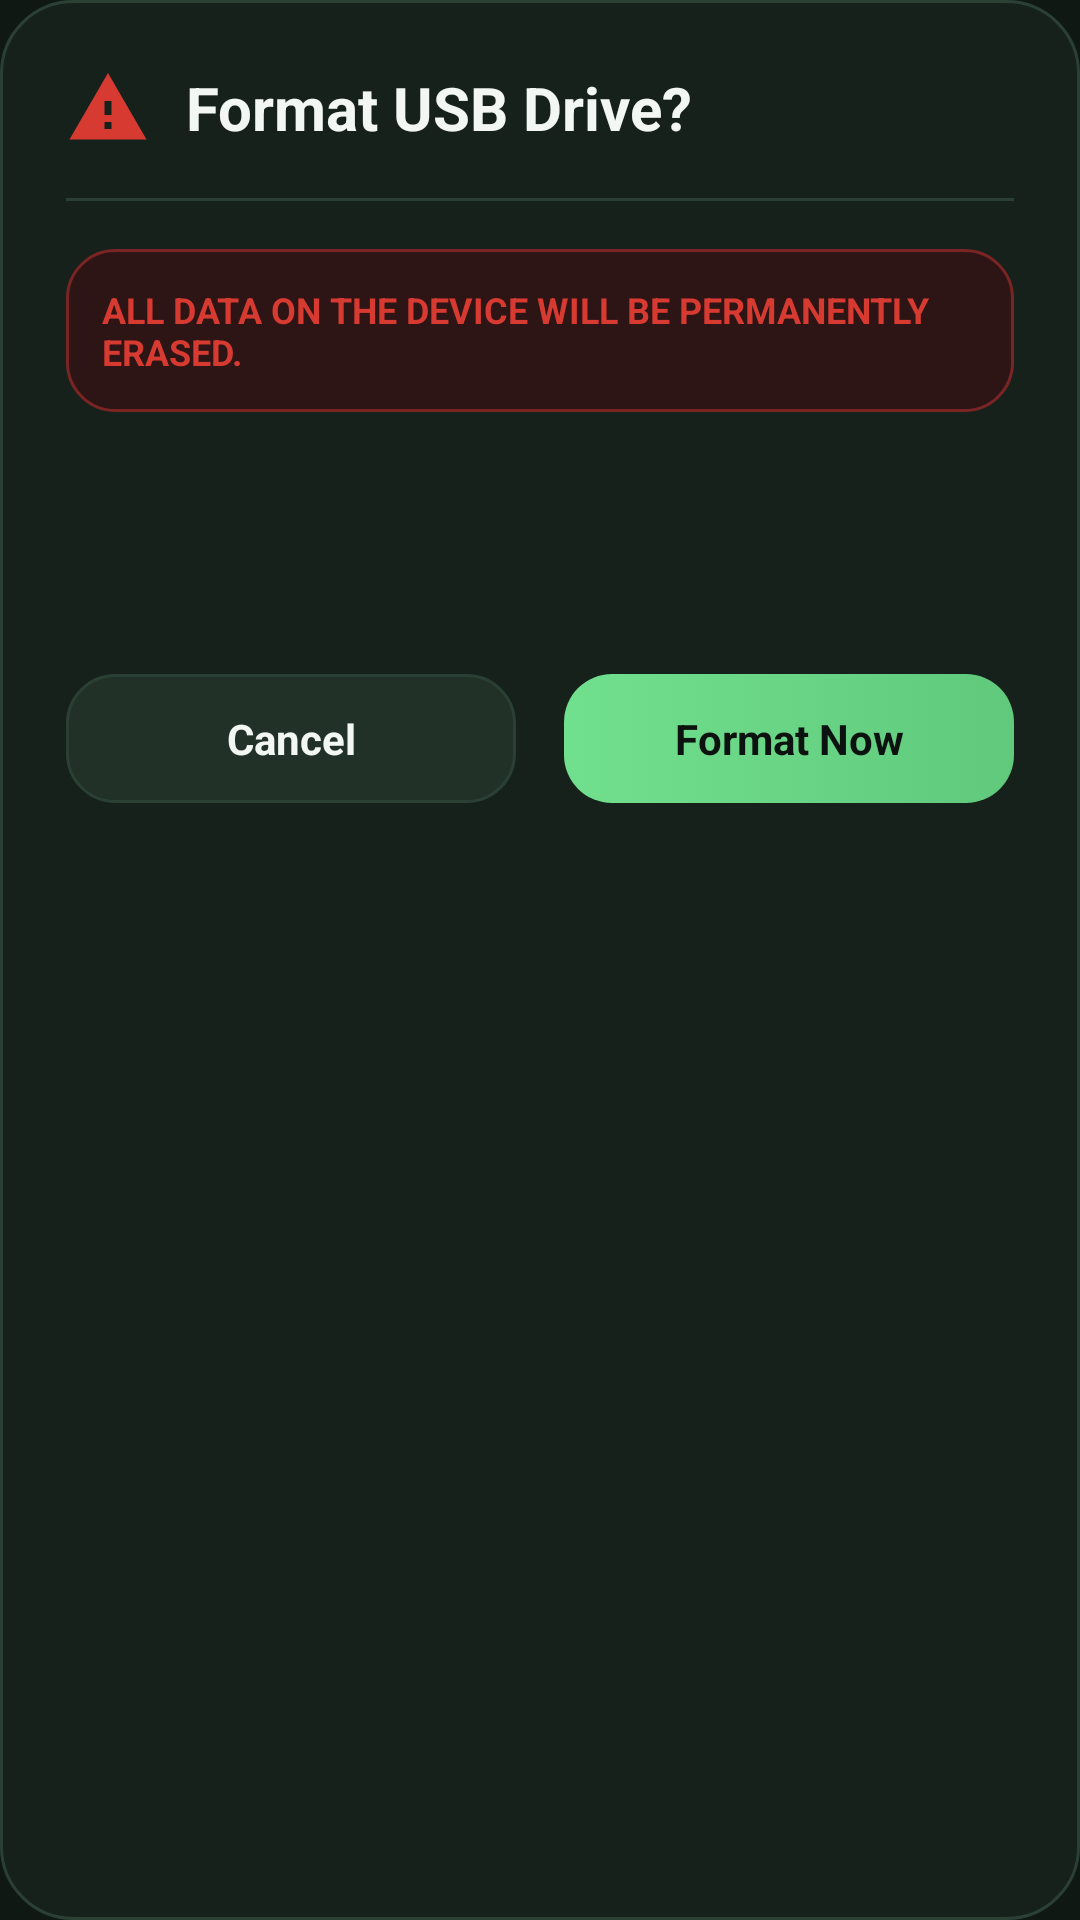

Screen size 1080*1920. Icon name, then its center in pixels as (x,y):
warning: (108,106)
